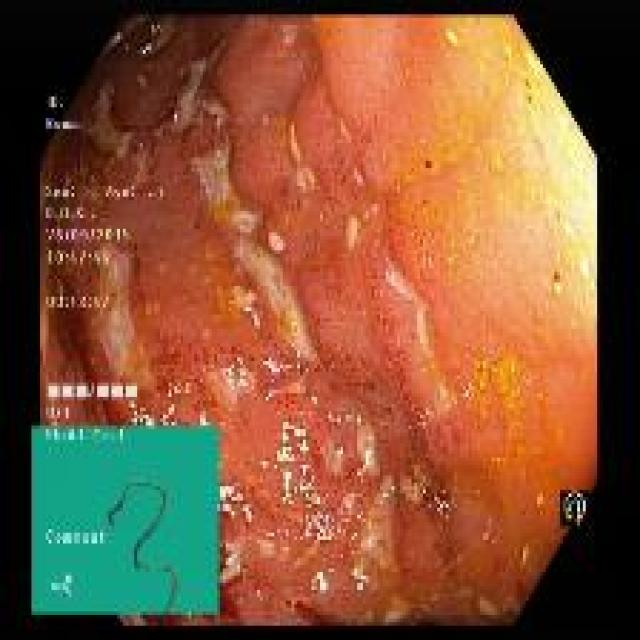ulcerative-colitis: (40, 17, 598, 624)
